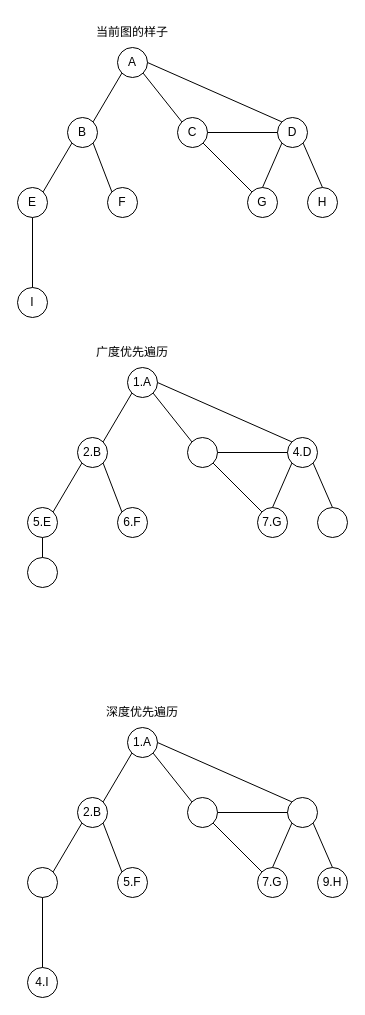
Some shapes in this 365 by 1015 pixel diagram are drawn without their labels. The shapes that lost their labels are listed below. From the top down, each one's centre as x and y in pixels, then its label:
point (202, 452): 3.C
point (332, 522): 8.H
point (42, 572): 9.I
point (202, 812): 6.C
point (302, 812): 8.D
point (42, 882): 3.E
